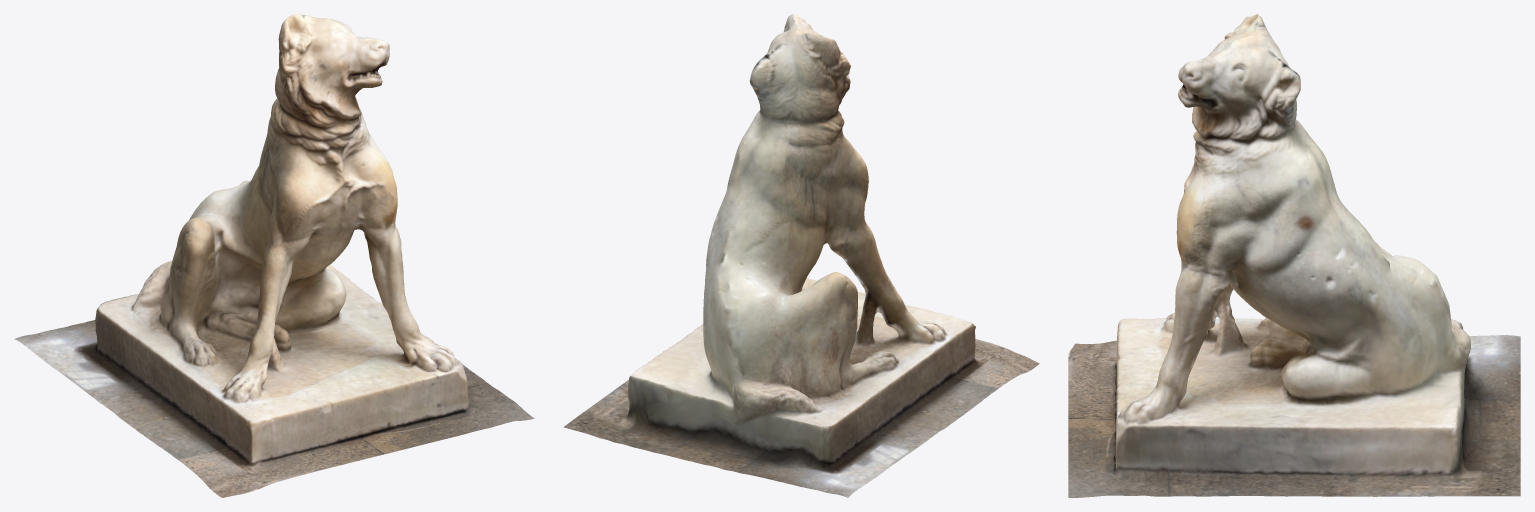
Rendered from molossian_hound.glb.
The picture shows the model from 3 angles, left to right: view 1: azimuth 30°, elevation 25°; view 2: azimuth 150°, elevation 25°; view 3: azimuth 270°, elevation 25°; orthographic projection. The views are drawn at different scales.
Parts seen in each view (by area): view 1: Object_5; view 2: Object_5; view 3: Object_5.
Boxes of the visible parts, bbox=[...] form: Object_5: bbox=[14, 14, 534, 497]; Object_5: bbox=[563, 14, 1039, 497]; Object_5: bbox=[1068, 14, 1520, 497].
Bounding box in the file's own units: 1.07 × 1.27 × 1.27.
Materials: 1 (1 with a texture image).
